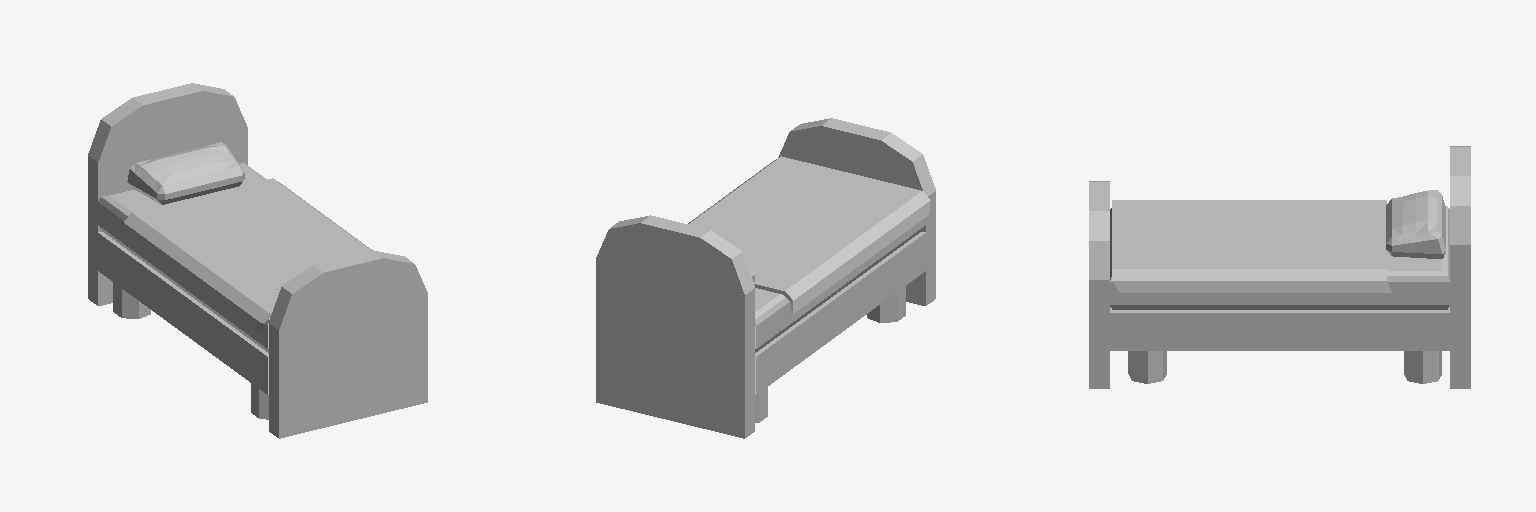
Rendered from BedPerson.obj.
The picture shows the model from 3 angles: view 1: azimuth 30°, elevation 25°; view 2: azimuth 150°, elevation 25°; view 3: azimuth 270°, elevation 25°; orthographic projection.
Visible parts, largest first — view 1: polySurface41 Bed, Bed polySurface50, Bed polySurface44, Bed polySurface46, Bed polySurface49, Bed polySurface43, Bed polySurface42; view 2: Bed polySurface44, Bed polySurface50, polySurface41 Bed, Bed polySurface46, Bed polySurface43, Bed polySurface48; view 3: Bed polySurface50, Bed polySurface46, Bed polySurface43, Bed polySurface44, polySurface41 Bed, Bed polySurface49, Bed polySurface47, Bed polySurface45.
Boxes of the visible parts, x1=… form: polySurface41 Bed: x1=269, y1=250, x2=427, y2=438; Bed polySurface50: x1=119, y1=178, x2=372, y2=331; Bed polySurface44: x1=88, y1=83, x2=247, y2=305; Bed polySurface46: x1=98, y1=232, x2=268, y2=394; Bed polySurface49: x1=127, y1=142, x2=244, y2=204; Bed polySurface43: x1=98, y1=162, x2=269, y2=352; Bed polySurface42: x1=113, y1=282, x2=150, y2=318; Bed polySurface44: x1=596, y1=215, x2=754, y2=438; Bed polySurface50: x1=688, y1=156, x2=930, y2=313; polySurface41 Bed: x1=778, y1=118, x2=935, y2=305; Bed polySurface46: x1=755, y1=232, x2=925, y2=394; Bed polySurface43: x1=755, y1=218, x2=925, y2=352; Bed polySurface48: x1=867, y1=286, x2=905, y2=322; Bed polySurface50: x1=1112, y1=200, x2=1391, y2=292; Bed polySurface46: x1=1110, y1=306, x2=1449, y2=350; Bed polySurface43: x1=1110, y1=206, x2=1449, y2=309; Bed polySurface44: x1=1450, y1=146, x2=1470, y2=388; polySurface41 Bed: x1=1089, y1=181, x2=1109, y2=388; Bed polySurface49: x1=1386, y1=190, x2=1445, y2=258; Bed polySurface47: x1=1128, y1=351, x2=1166, y2=383; Bed polySurface45: x1=1404, y1=351, x2=1441, y2=383.
Bounding box in the file's own units: 4.44 × 4.97 × 9.05.